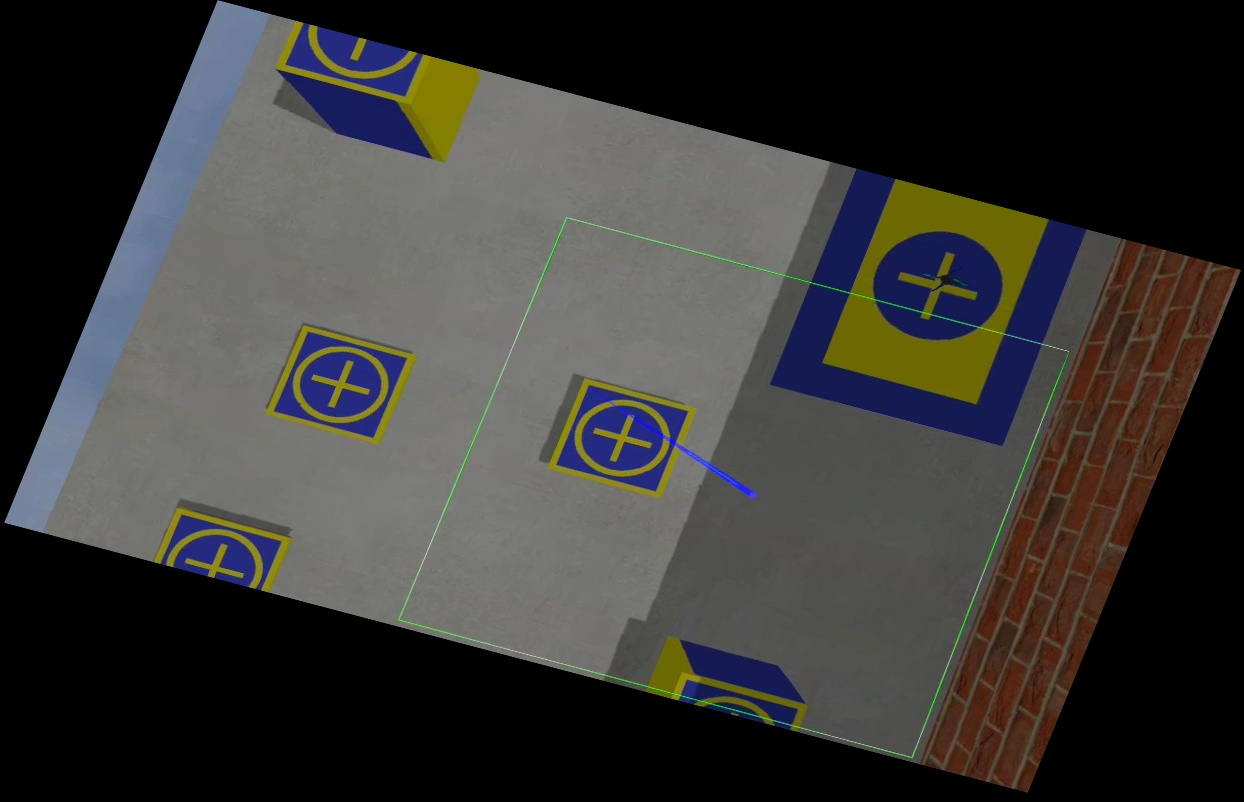large_base: (764, 168, 1093, 451)
small_base: (544, 375, 700, 500), (263, 325, 418, 448), (271, 20, 430, 108), (154, 505, 293, 592), (666, 668, 806, 732)
